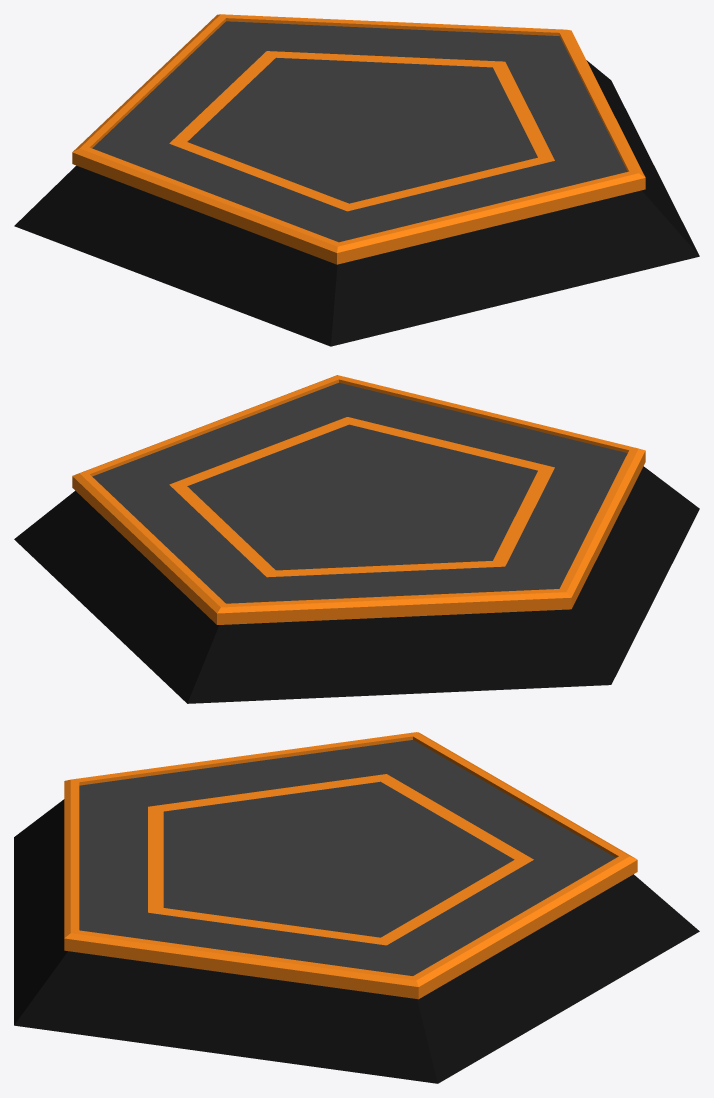
File: launchpad.obj
3 views of the same model, one above another, from view 1: azimuth 30°, elevation 25°; view 2: azimuth 150°, elevation 25°; view 3: azimuth 270°, elevation 25° (orthographic). The views are drawn at different scales.
Visible parts, largest first — view 1: Launchpad; view 2: Launchpad; view 3: Launchpad.
Part boxes in pixels (<box>): Launchpad: <box>14,14,699,346</box>; Launchpad: <box>14,375,699,703</box>; Launchpad: <box>14,732,699,1083</box>.
Size of the model in its own units: 18.36 by 2.11 by 17.46.
